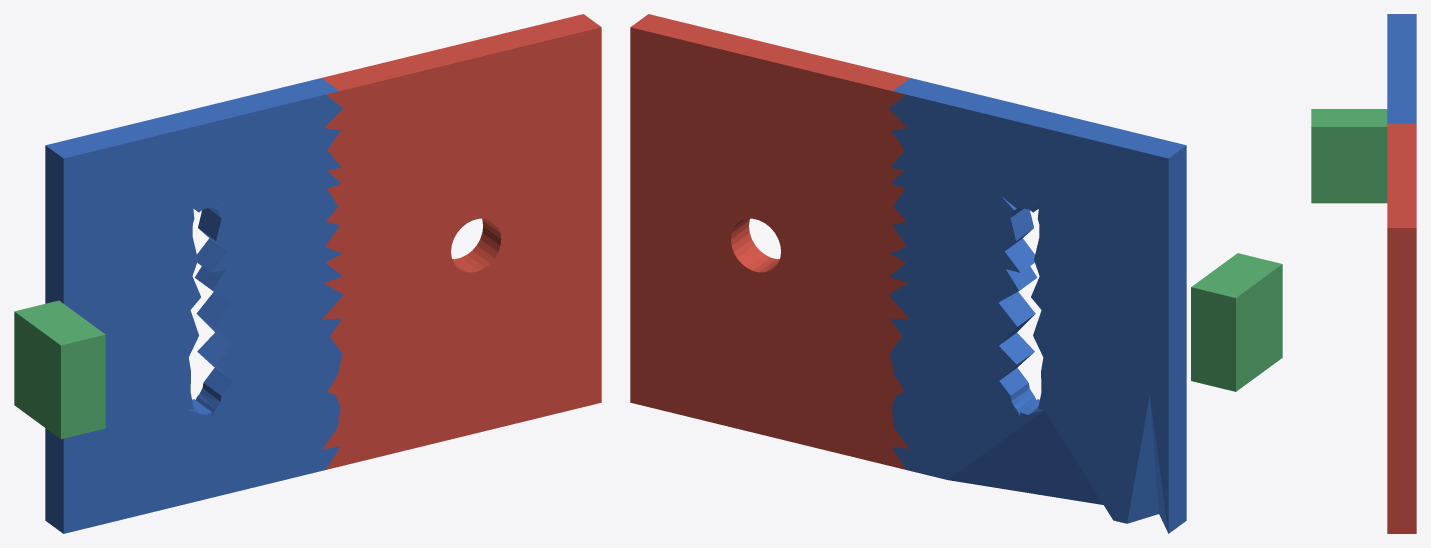
3 renders of one model, left to right at view 1: azimuth 30°, elevation 25°; view 2: azimuth 150°, elevation 25°; view 3: azimuth 270°, elevation 25°, orthographic. The views are drawn at different scales.
Visible parts, largest first — view 1: plate, bracket; view 2: plate, bracket; view 3: plate, bracket.
Boxes of the visible parts, left/top/right/bottom form: plate: left=45, top=14, right=601, bottom=533; bracket: left=14, top=300, right=105, bottom=439; plate: left=630, top=14, right=1186, bottom=533; bracket: left=1191, top=253, right=1282, bottom=391; plate: left=1387, top=14, right=1416, bottom=533; bracket: left=1311, top=109, right=1387, bottom=203.
Size of the model in its own units: 6.55 by 4 by 1.25.
